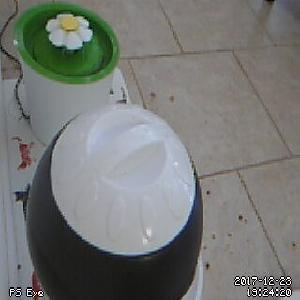fountain: (11, 3, 119, 84)
